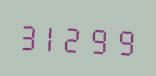nine: (114, 21, 137, 59), (90, 20, 113, 57)
one: (42, 18, 65, 55)
three: (18, 16, 41, 54)
two: (66, 19, 89, 56)
